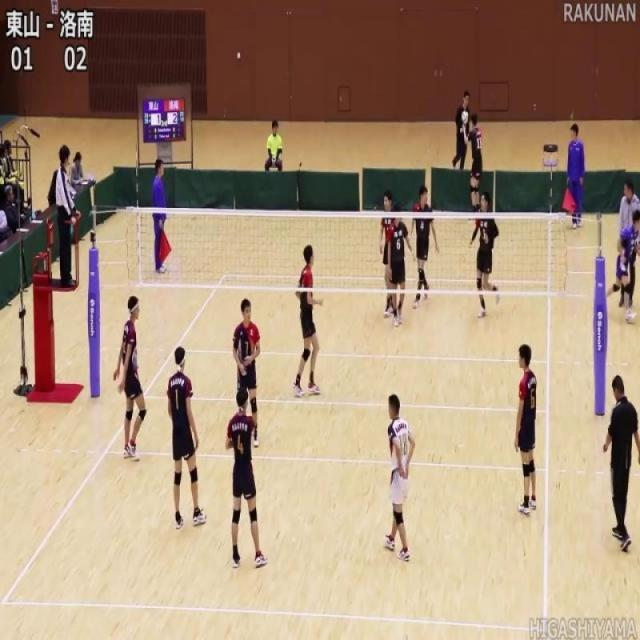volleyball: (460, 110, 470, 126)
